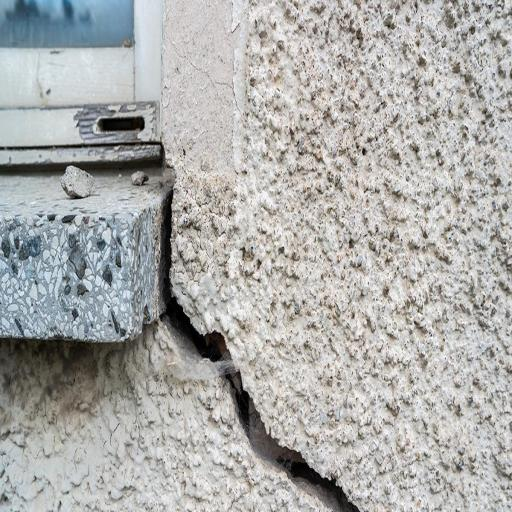spalling: (160, 195, 367, 512)
